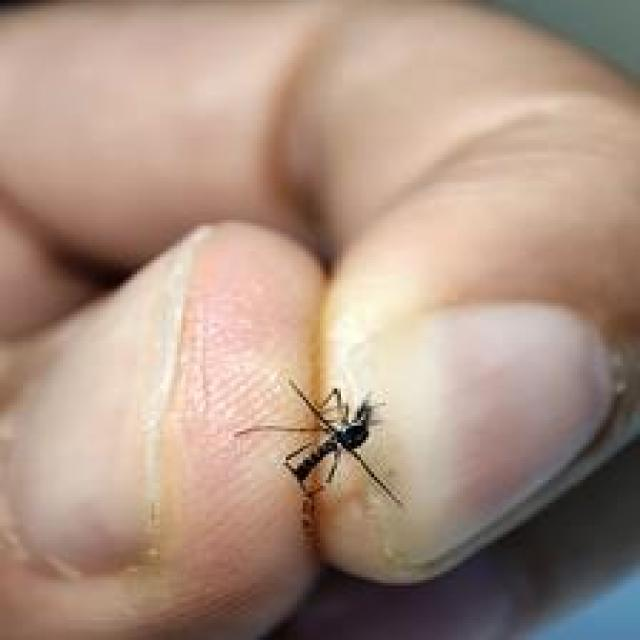Aedes albopictus: (233, 376, 404, 510)
